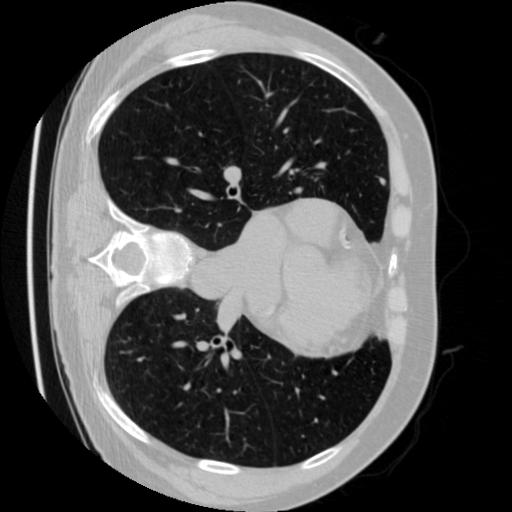nodule: (378, 175, 389, 186)
